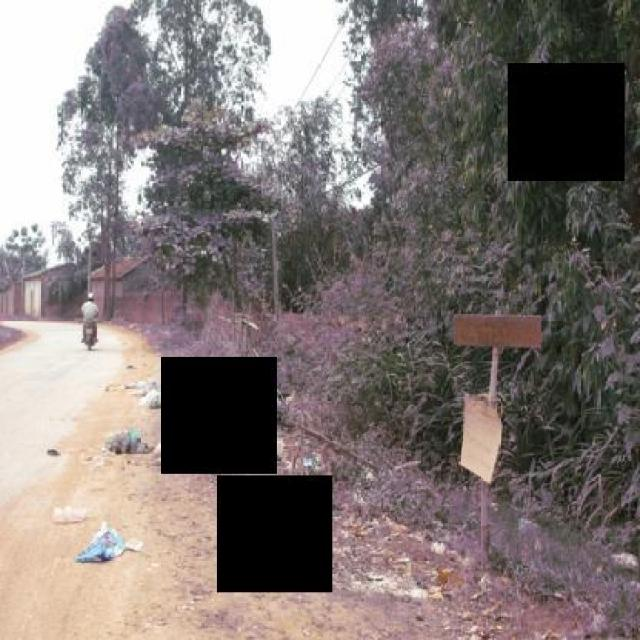plastic bag: (140, 374, 309, 475), (71, 517, 137, 565), (100, 418, 157, 471), (144, 411, 188, 466)
